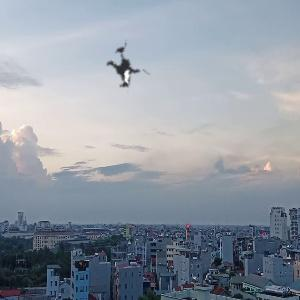drone: (74, 21, 169, 116)
